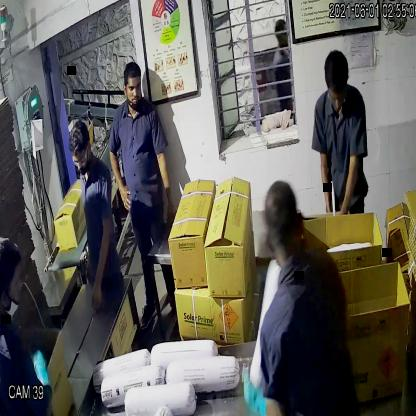goggles: (69, 145, 92, 172)
